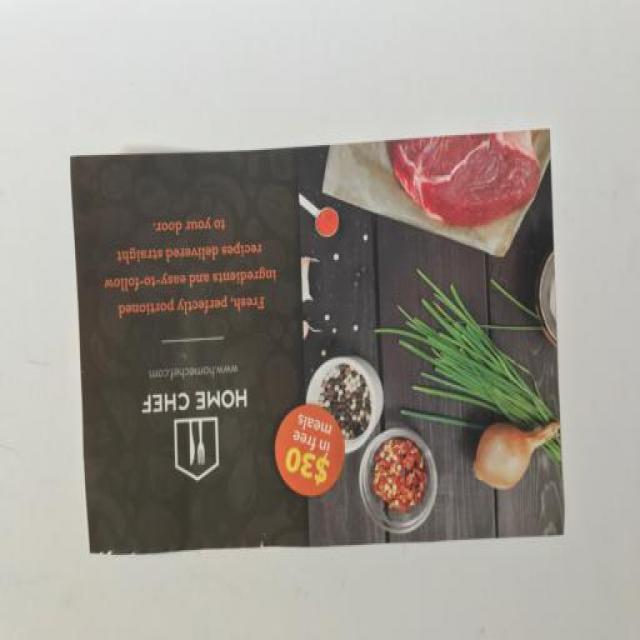paper: (38, 121, 609, 584)
